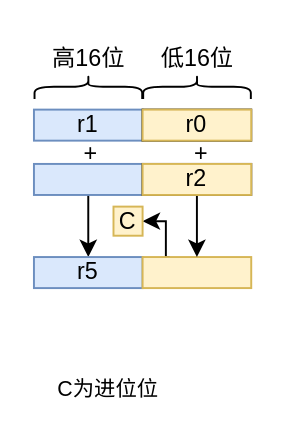
The diagram is 285 pixels wide and 448 high, and some of its shapes have lost their labels. Here are the shapes that lost their labels. From the top down, the centre of each, then its label:
At (x=87, y=178): "r3".
At (x=196, y=271): "r4".
